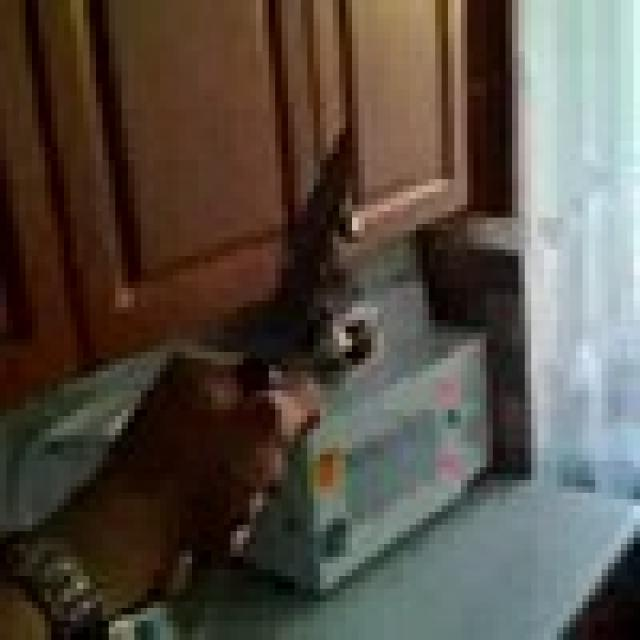Knife: (243, 122, 365, 403)
